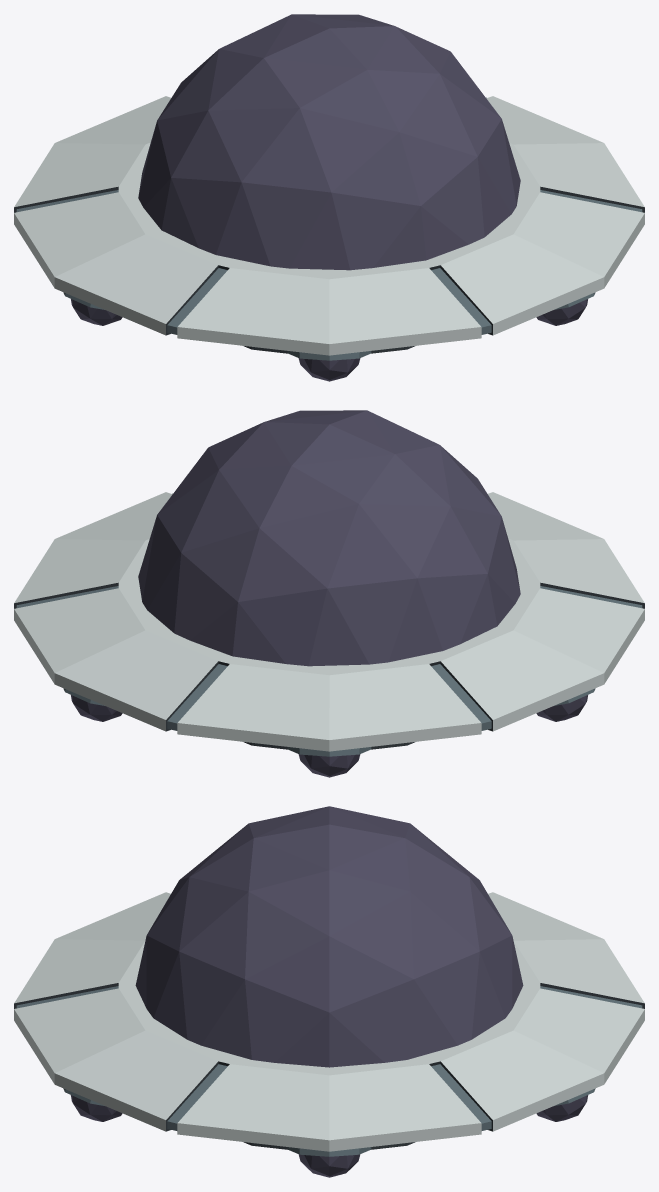
The model's file is UFO.FBX.
The picture shows the model from 3 angles, top to bottom: view 1: azimuth 30°, elevation 25°; view 2: azimuth 150°, elevation 25°; view 3: azimuth 270°, elevation 25°; orthographic projection.
Visible parts, largest first — view 1: UFO; view 2: UFO; view 3: UFO.
Part boxes in pixels (x1,y1,x2,y2): UFO: (14,14,644,381); UFO: (14,410,644,777); UFO: (14,806,644,1177).
Size of the model in its own units: 25.34 by 11.64 by 25.2.
